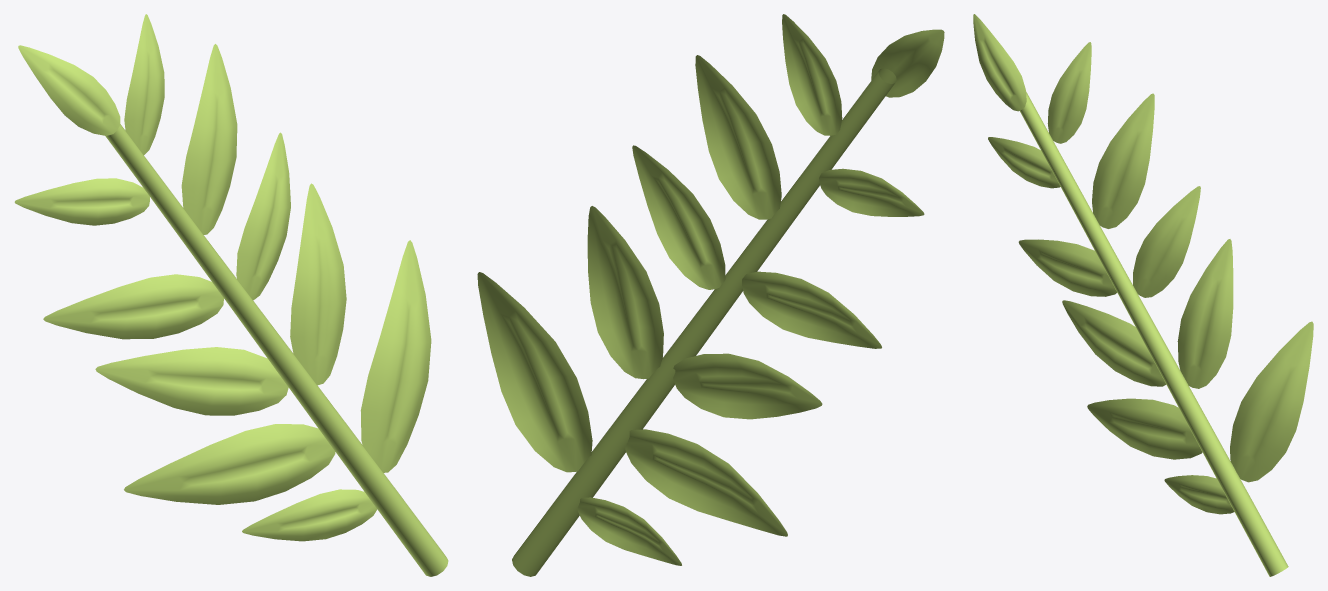
Rendered from leaf2.0.glb.
The picture shows the model from 3 angles, left to right: view 1: azimuth 30°, elevation 25°; view 2: azimuth 150°, elevation 25°; view 3: azimuth 330°, elevation 25°; orthographic projection. The views are drawn at different scales.
Parts seen in each view (by area): view 1: Vert.010; view 2: Vert.010; view 3: Vert.010.
Part boxes in pixels (box(x1,y1,x2,y2)): Vert.010: box(14, 14, 448, 576); Vert.010: box(477, 14, 944, 576); Vert.010: box(973, 14, 1313, 576).
Size of the model in its own units: 4.3 by 6.04 by 0.7373.
